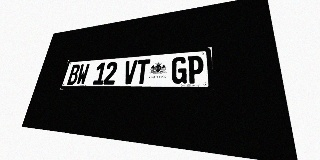1: (93, 62, 107, 85)
2: (103, 61, 118, 85)
B: (67, 64, 81, 85)
G: (171, 56, 187, 84)
P: (187, 55, 204, 84)
T: (135, 59, 150, 84)
V: (122, 60, 138, 84)
W: (76, 64, 90, 85)
